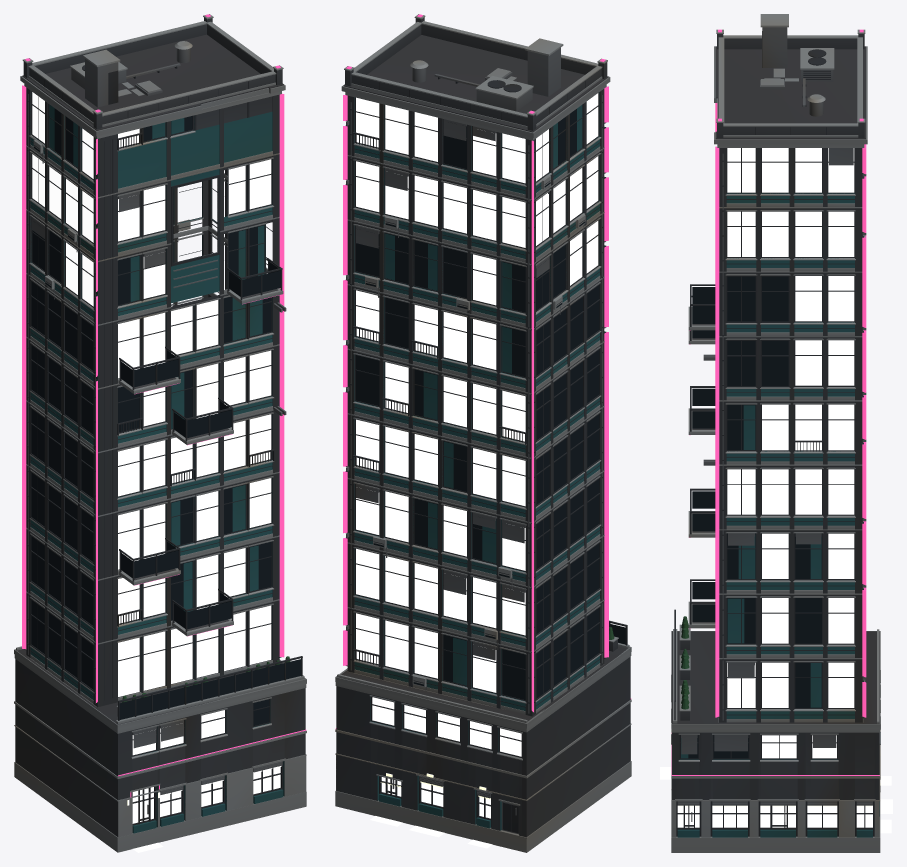
The model's file is lotus230.glb.
3 views of the same model, side by side, from view 1: azimuth 30°, elevation 25°; view 2: azimuth 150°, elevation 25°; view 3: azimuth 270°, elevation 25° (orthographic).
Parts seen in each view (by area): view 1: lo230-wall, lo230-trim, lo230-dark, lo230-frame, lo230-wall2, lo230-room2, lo230-room1, lo230-room0, lo230-roof, lo230-accent, lo230-steel, lo230-shop; view 2: lo230-wall, lo230-trim, lo230-dark, lo230-frame, lo230-wall2, lo230-room2, lo230-room1, lo230-steel, lo230-room0, lo230-roof, lo230-accent, lo230-shop (+1 smaller); view 3: lo230-wall, lo230-trim, lo230-frame, lo230-dark, lo230-roof, lo230-room2, lo230-wall2, lo230-room1, lo230-room0, lo230-steel, lo230-accent, lo230-shop (+2 smaller).
Part boxes in pixels (x1,y1,x2,y2): lo230-wall: (15, 17, 305, 836); lo230-trim: (14, 14, 306, 852); lo230-dark: (31, 108, 301, 818); lo230-frame: (24, 65, 302, 825); lo230-wall2: (30, 94, 284, 833); lo230-room2: (49, 128, 271, 823); lo230-room1: (32, 92, 245, 755); lo230-room0: (118, 185, 271, 738); lo230-roof: (15, 34, 283, 724); lo230-accent: (22, 14, 306, 797); lo230-steel: (28, 48, 286, 814); lo230-shop: (160, 767, 280, 816); lo230-wall: (336, 17, 630, 837); lo230-trim: (335, 14, 631, 852); lo230-dark: (356, 88, 625, 815); lo230-frame: (345, 77, 627, 833); lo230-wall2: (354, 92, 599, 830); lo230-room2: (356, 97, 598, 756); lo230-room1: (356, 93, 598, 749); lo230-steel: (346, 47, 602, 834); lo230-room0: (356, 105, 525, 741); lo230-roof: (337, 35, 626, 721); lo230-accent: (335, 14, 631, 728); lo230-shop: (381, 777, 490, 818); lo230-wall: (672, 34, 879, 799); lo230-trim: (671, 14, 880, 852); lo230-frame: (674, 31, 874, 836); lo230-dark: (680, 65, 821, 758); lo230-roof: (672, 46, 879, 723); lo230-room2: (727, 148, 854, 758); lo230-wall2: (677, 193, 879, 837); lo230-room1: (727, 211, 854, 758); lo230-room0: (762, 148, 854, 707); lo230-steel: (677, 27, 872, 821); lo230-accent: (671, 29, 879, 775); lo230-shop: (677, 805, 872, 827).
Bounding box in the file's own units: 9.64 × 36.44 × 10.15.
